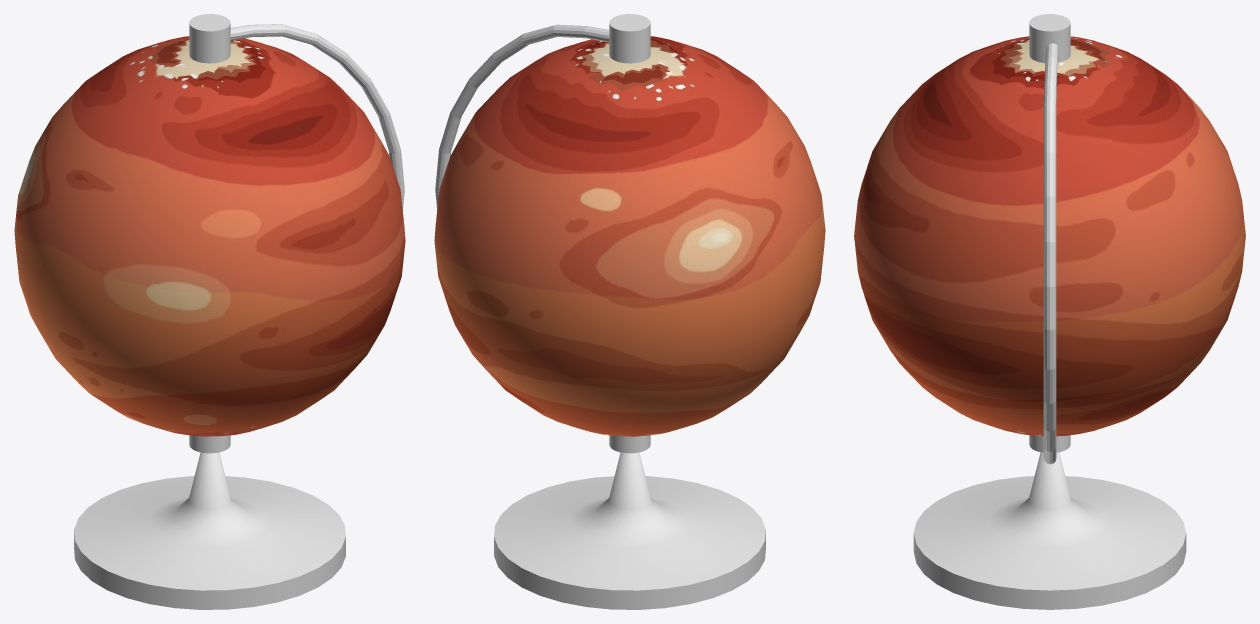
Rendered from Mars.fbx.
3 views of the same model, side by side, from view 1: azimuth 30°, elevation 25°; view 2: azimuth 150°, elevation 25°; view 3: azimuth 270°, elevation 25° (orthographic).
Parts seen in each view (by area): view 1: Sphere, Cylinder, Curve; view 2: Sphere, Cylinder, Curve; view 3: Sphere, Cylinder, Curve.
Part boxes in pixels (left/top/right/bottom): Sphere: left=14, top=36, right=405, bottom=436; Cylinder: left=74, top=14, right=345, bottom=609; Curve: left=230, top=24, right=404, bottom=210; Sphere: left=434, top=36, right=825, bottom=436; Cylinder: left=494, top=14, right=765, bottom=609; Curve: left=435, top=24, right=609, bottom=210; Sphere: left=854, top=36, right=1245, bottom=436; Cylinder: left=913, top=14, right=1186, bottom=609; Curve: left=1043, top=43, right=1058, bottom=464.
Bounding box in the file's own units: 20.35 × 28.33 × 19.
2 materials, 1 textured.
